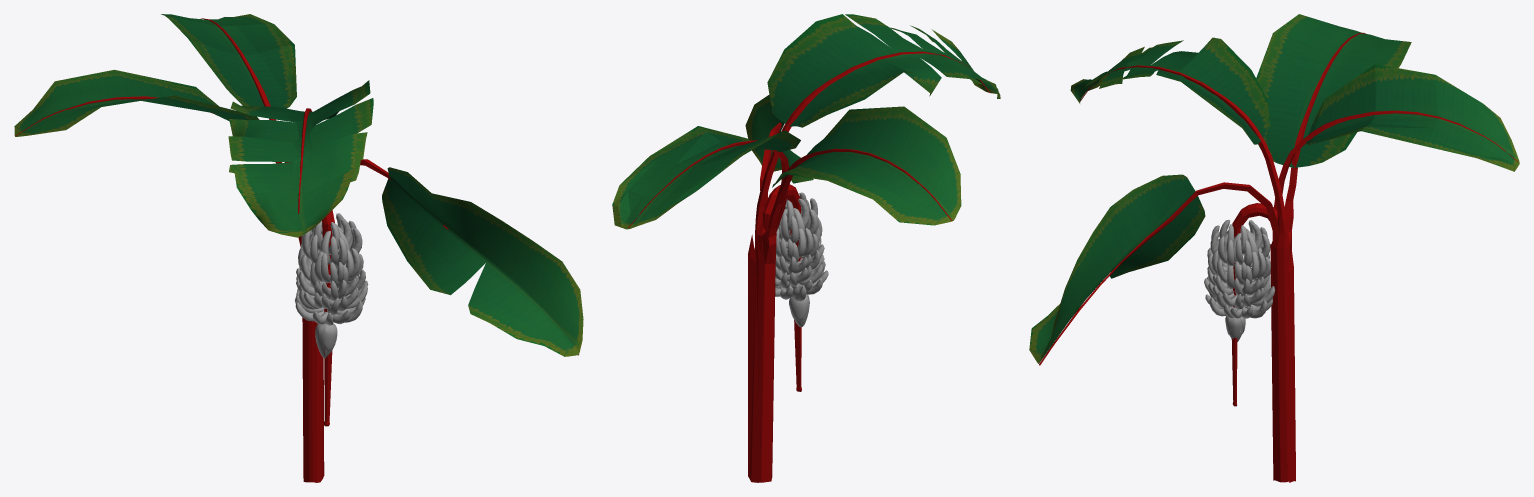
The model's file is BananaTree_mdl.FBX.
3 renders of one model, left to right at view 1: azimuth 30°, elevation 25°; view 2: azimuth 150°, elevation 25°; view 3: azimuth 270°, elevation 25°, orthographic. The views are drawn at different scales.
Visible parts, largest first — view 1: BananaLeaf_mdl_LOD0, Bananas_Mdl_LOD0, BananaTree_mdl_LOD0, BananaFruit_mdl_LOD0; view 2: BananaLeaf_mdl_LOD0, BananaTree_mdl_LOD0, Bananas_Mdl_LOD0, BananaFruit_mdl_LOD0; view 3: BananaLeaf_mdl_LOD0, BananaTree_mdl_LOD0, Bananas_Mdl_LOD0.
Boxes of the visible parts, left/top/right/bottom form: BananaLeaf_mdl_LOD0: left=14, top=14, right=583, bottom=356; Bananas_Mdl_LOD0: left=294, top=213, right=368, bottom=325; BananaTree_mdl_LOD0: left=15, top=18, right=579, bottom=482; BananaFruit_mdl_LOD0: left=315, top=323, right=337, bottom=357; BananaLeaf_mdl_LOD0: left=612, top=14, right=1000, bottom=229; BananaTree_mdl_LOD0: left=628, top=51, right=989, bottom=482; Bananas_Mdl_LOD0: left=775, top=192, right=828, bottom=301; BananaFruit_mdl_LOD0: left=789, top=294, right=809, bottom=327; BananaLeaf_mdl_LOD0: left=1029, top=14, right=1519, bottom=363; BananaTree_mdl_LOD0: left=1039, top=32, right=1517, bottom=482; Bananas_Mdl_LOD0: left=1204, top=219, right=1275, bottom=318.
Size of what is drawn, in the model's own units: 289 by 310 by 345.
